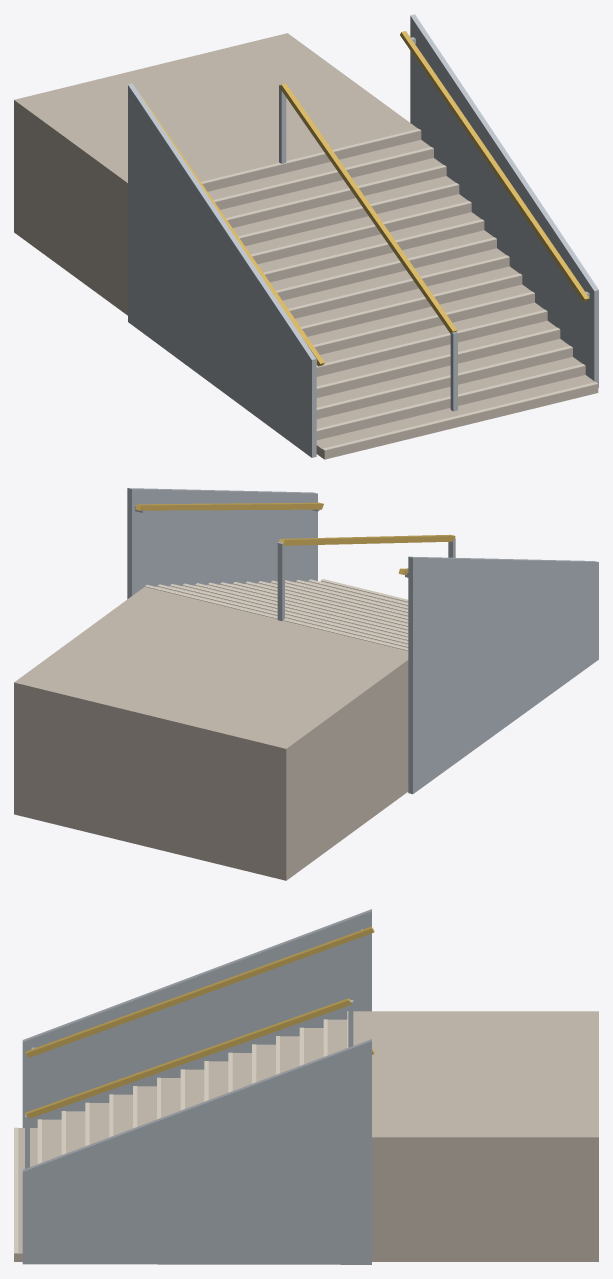
Rendered from scale.glb.
3 renders of one model, top to bottom at view 1: azimuth 30°, elevation 25°; view 2: azimuth 150°, elevation 25°; view 3: azimuth 270°, elevation 25°, orthographic. The views are drawn at different scales.
Parts seen in each view (by area): view 1: Scala_beige, Scala_metal.001, Scala_metal.004, Scala_beige_l, Scala_brass.002, Scala_brass, Scala_metal, Scala_brass.001; view 2: Scala_beige, Scala_metal.001, Scala_metal.004, Scala_beige_l, Scala_brass.002, Scala_brass, Scala_metal; view 3: Scala_beige, Scala_metal.004, Scala_metal.001, Scala_beige_l, Scala_brass.001, Scala_brass, Scala_metal.
Boxes of the visible parts, <box> form: Scala_beige: <box>14,33,598,459</box>; Scala_metal.001: <box>128,83,316,457</box>; Scala_metal.004: <box>410,14,598,387</box>; Scala_beige_l: <box>201,129,597,450</box>; Scala_brass.002: <box>400,31,589,301</box>; Scala_brass: <box>280,83,457,333</box>; Scala_metal: <box>279,83,457,411</box>; Scala_brass.001: <box>141,95,324,366</box>; Scala_beige: <box>14,581,408,880</box>; Scala_metal.001: <box>408,556,598,794</box>; Scala_metal.004: <box>127,488,317,599</box>; Scala_beige_l: <box>145,579,408,650</box>; Scala_brass.002: <box>135,502,323,510</box>; Scala_brass: <box>279,534,455,545</box>; Scala_metal: <box>277,537,455,620</box>; Scala_beige: <box>14,1011,598,1261</box>; Scala_metal.004: <box>22,1039,371,1264</box>; Scala_metal.001: <box>22,909,371,1127</box>; Scala_beige_l: <box>14,1011,348,1253</box>; Scala_brass.001: <box>25,926,374,1057</box>; Scala_brass: <box>25,998,352,1118</box>; Scala_metal: <box>25,1000,353,1168</box>.
Bounding box in the file's own units: 3.69 × 2.91 × 6.88.
